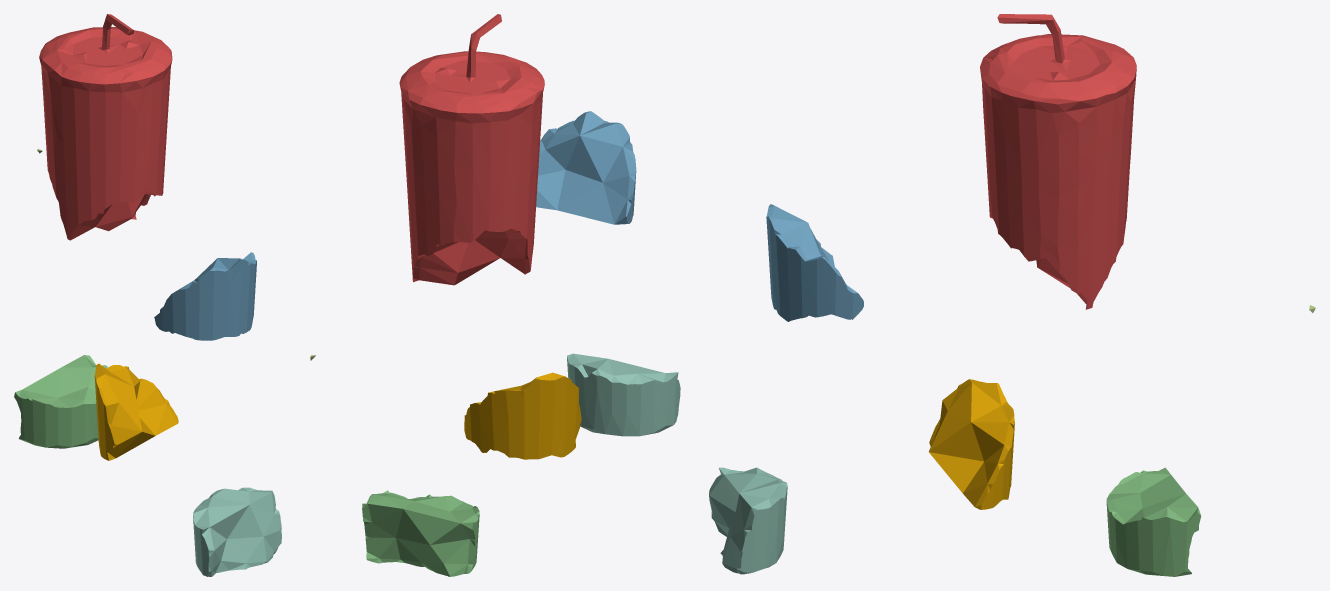
Rendered from fractured_32_6pcs_transformed.glb.
The picture shows the model from 3 angles, left to right: view 1: azimuth 30°, elevation 25°; view 2: azimuth 150°, elevation 25°; view 3: azimuth 270°, elevation 25°; orthographic projection. The views are drawn at different scales.
Parts seen in each view (by area): view 1: piece_1.obj, piece_4.obj, piece_2.obj, piece_3.obj, piece_0.obj; view 2: piece_1.obj, piece_2.obj, piece_3.obj, piece_0.obj, piece_4.obj; view 3: piece_1.obj, piece_0.obj, piece_3.obj, piece_2.obj, piece_4.obj.
Part boxes in pixels (x1=…): piece_1.obj: x1=39, y1=14, x2=172, y2=240; piece_4.obj: x1=193, y1=487, x2=281, y2=576; piece_2.obj: x1=154, y1=252, x2=256, y2=340; piece_3.obj: x1=14, y1=355, x2=107, y2=448; piece_0.obj: x1=94, y1=363, x2=178, y2=460; piece_1.obj: x1=399, y1=14, x2=544, y2=285; piece_2.obj: x1=536, y1=111, x2=636, y2=224; piece_3.obj: x1=362, y1=490, x2=479, y2=576; piece_0.obj: x1=464, y1=372, x2=581, y2=459; piece_4.obj: x1=567, y1=353, x2=680, y2=436; piece_1.obj: x1=980, y1=14, x2=1136, y2=309; piece_0.obj: x1=929, y1=379, x2=1014, y2=509; piece_3.obj: x1=1106, y1=467, x2=1201, y2=576; piece_2.obj: x1=766, y1=204, x2=863, y2=321; piece_4.obj: x1=709, y1=467, x2=787, y2=574.
Bounding box in the file's own units: 0.4212 × 1.6 × 1.63.
